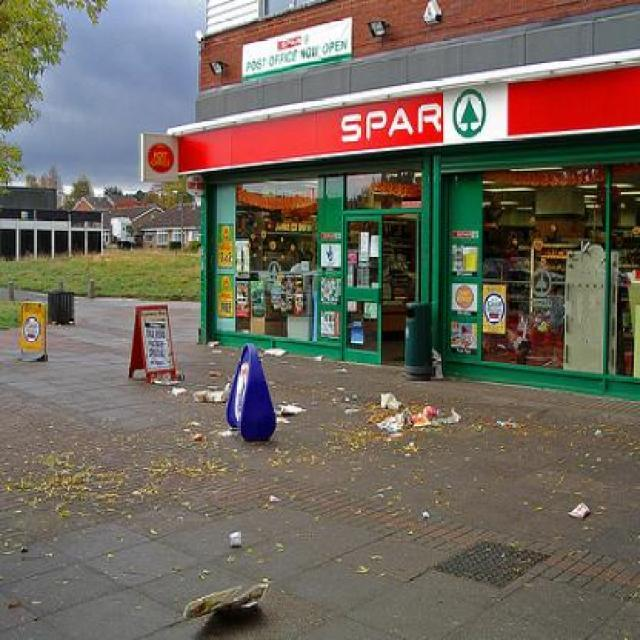garbage: (365, 385, 456, 448), (186, 377, 230, 410)
